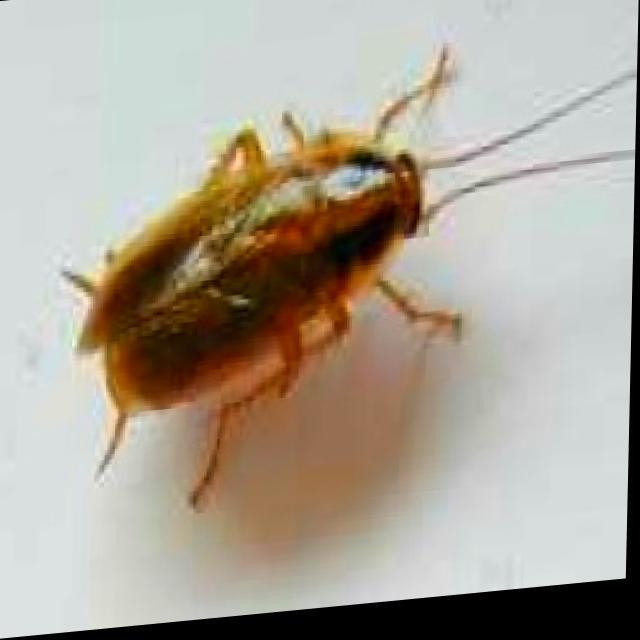cockroach: (79, 68, 493, 417)
